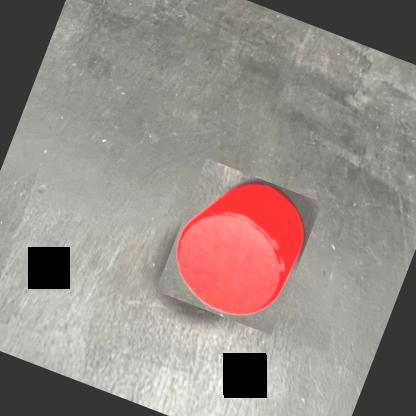red cylinder: (154, 158, 322, 336)
